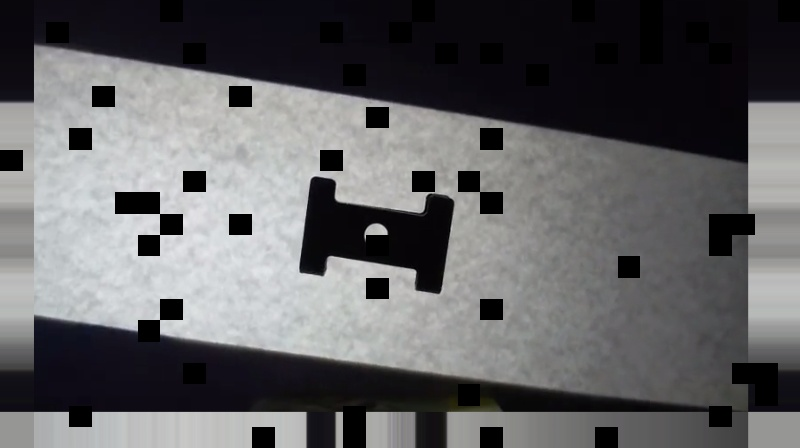O002: (296, 174, 456, 294)
